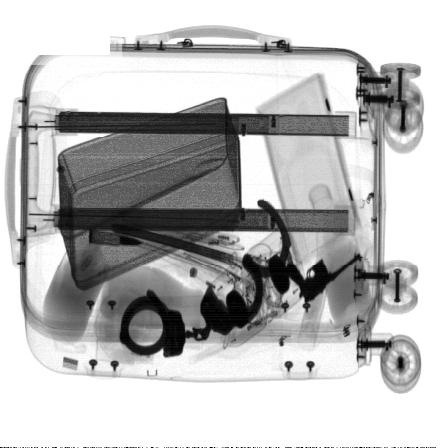Bullet: (88, 228, 142, 247)
Gun: (285, 252, 362, 304)
HandCuffs: (117, 199, 292, 358)
